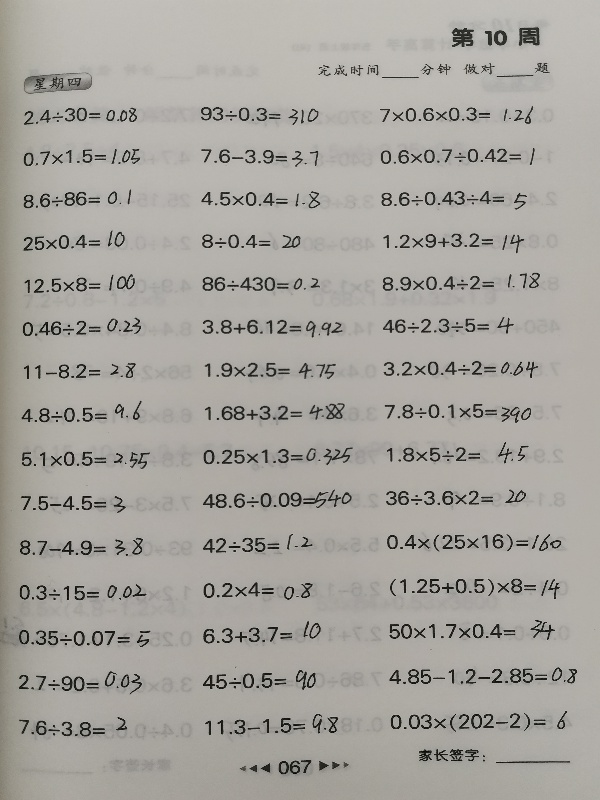equation: (381, 528, 569, 555), (385, 573, 563, 601), (386, 619, 562, 647), (386, 709, 573, 734), (1, 622, 153, 652), (379, 268, 544, 295), (382, 666, 582, 688), (376, 102, 538, 128), (199, 487, 355, 513), (381, 398, 535, 424), (377, 186, 530, 212), (199, 444, 356, 469), (377, 145, 539, 169), (380, 356, 541, 380), (379, 229, 527, 255), (201, 710, 341, 737), (15, 666, 145, 695), (199, 662, 319, 693), (201, 400, 348, 425), (199, 315, 345, 339), (18, 398, 145, 425), (382, 486, 529, 509), (201, 358, 339, 382), (380, 314, 518, 338), (198, 620, 325, 646), (16, 534, 147, 559), (17, 447, 153, 471), (18, 314, 144, 339), (198, 187, 324, 212), (196, 103, 322, 128), (14, 714, 130, 741), (16, 581, 151, 604), (383, 444, 530, 465), (197, 145, 322, 169), (19, 145, 143, 169), (200, 579, 317, 604), (199, 531, 315, 556), (20, 103, 140, 127), (21, 359, 140, 383), (21, 272, 138, 296), (199, 273, 324, 295), (17, 491, 129, 515), (19, 187, 134, 210), (19, 229, 128, 252), (199, 231, 305, 253)
